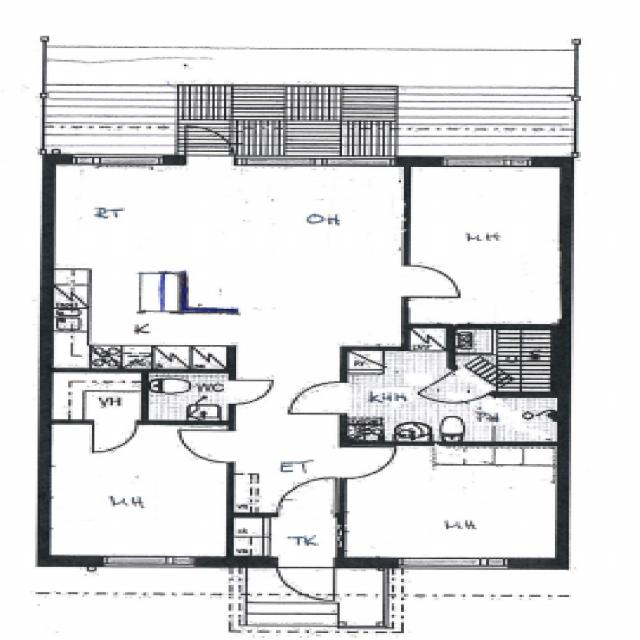door: (418, 369, 493, 417), (278, 558, 333, 603), (277, 476, 335, 517), (186, 125, 234, 165), (177, 430, 233, 462), (341, 447, 396, 478), (402, 266, 457, 297), (292, 383, 347, 413), (94, 420, 135, 451), (226, 381, 270, 404)
